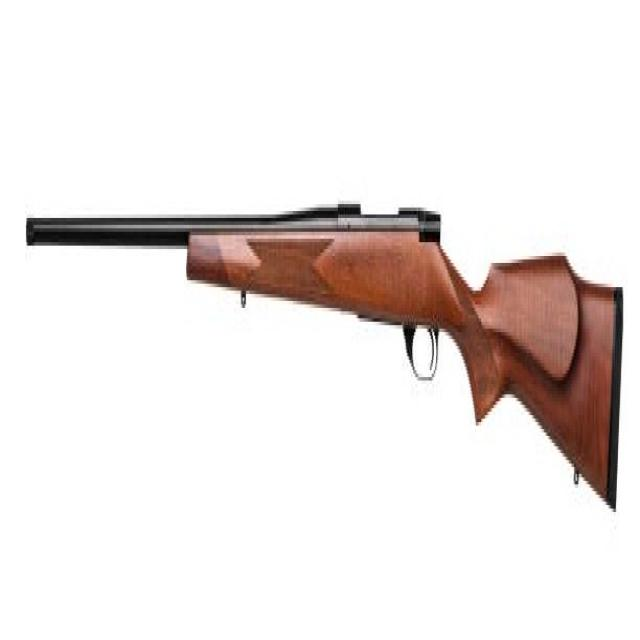rifle: (20, 171, 633, 556)
